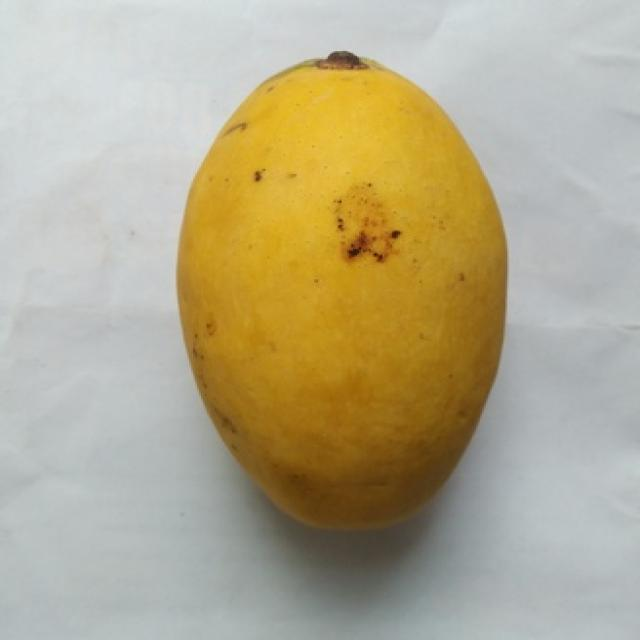Mango: (178, 57, 503, 525)
